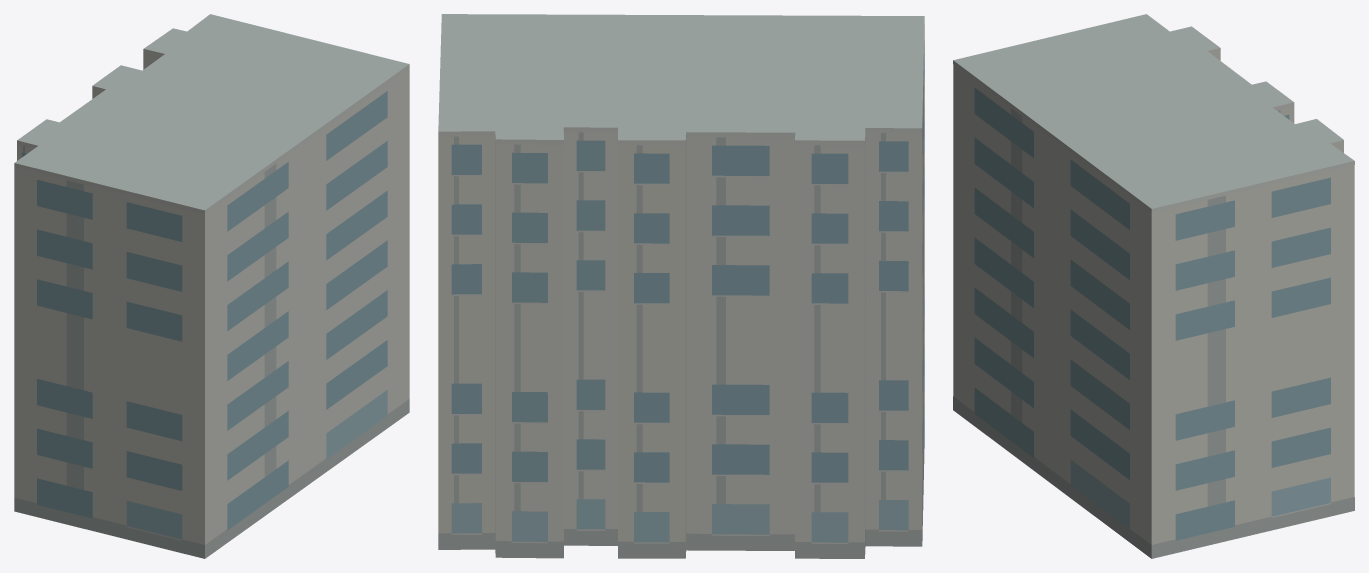
File: survey-upis-32696144.glb
3 views of the same model, side by side, from view 1: azimuth 30°, elevation 25°; view 2: azimuth 150°, elevation 25°; view 3: azimuth 270°, elevation 25° (orthographic). The views are drawn at different scales.
Visible parts, largest first — view 1: survey-upis-32696144.tmp; view 2: survey-upis-32696144.tmp; view 3: survey-upis-32696144.tmp.
Part boxes in pixels (x1,y1,x2,y2): survey-upis-32696144.tmp: (14, 14, 409, 558); survey-upis-32696144.tmp: (438, 14, 924, 558); survey-upis-32696144.tmp: (953, 14, 1354, 558).
Bounding box in the file's own units: 24.38 × 20.4 × 21.22.
